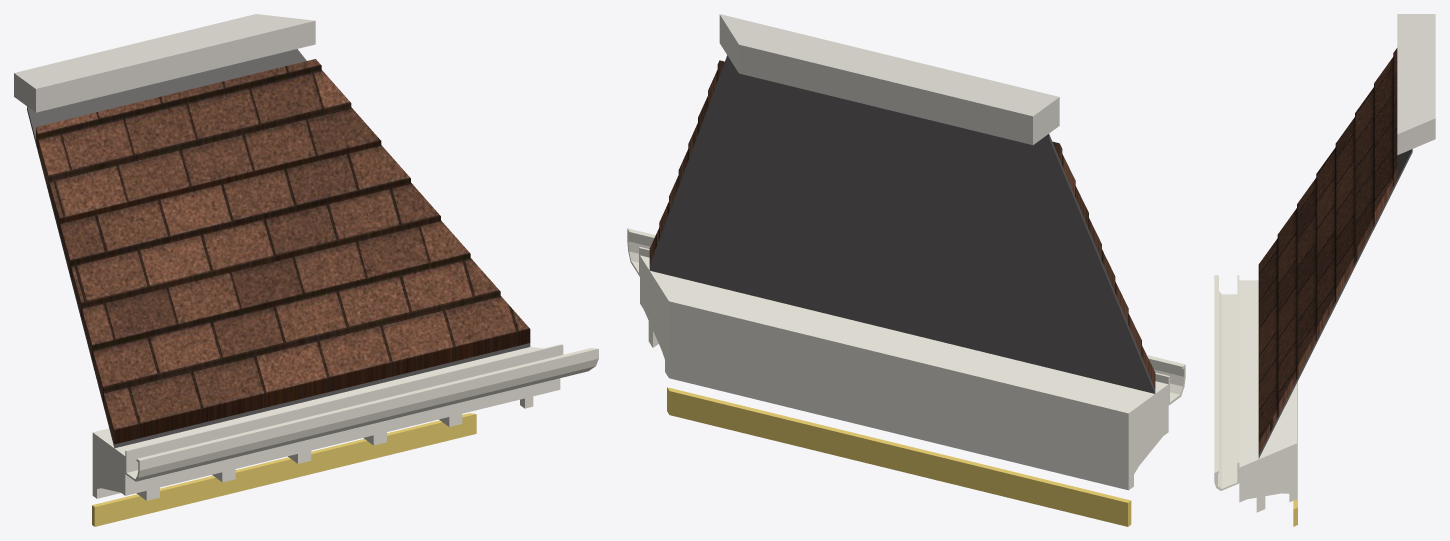
Rendered from mans_b.glb.
The picture shows the model from 3 angles, left to right: view 1: azimuth 30°, elevation 25°; view 2: azimuth 150°, elevation 25°; view 3: azimuth 270°, elevation 25°; orthographic projection. The views are drawn at different scales.
Parts seen in each view (by area): view 1: mans_b_shingles, mans_b_gutter, mans_b_cill, mans_b_trim, mans_b_accent, mans_b_dark; view 2: mans_b_dark, mans_b_trim, mans_b_cill, mans_b_accent, mans_b_shingles, mans_b_gutter; view 3: mans_b_shingles, mans_b_trim, mans_b_cill, mans_b_gutter, mans_b_dark.
Boxes of the visible parts, x1,y1,x2,y2 form: mans_b_shingles: [36, 59, 530, 444]; mans_b_gutter: [125, 344, 598, 481]; mans_b_cill: [14, 14, 315, 112]; mans_b_trim: [92, 347, 560, 500]; mans_b_accent: [92, 413, 476, 526]; mans_b_dark: [27, 49, 530, 448]; mans_b_dark: [649, 55, 1155, 393]; mans_b_trim: [640, 255, 1168, 490]; mans_b_cill: [719, 14, 1059, 144]; mans_b_accent: [667, 387, 1131, 526]; mans_b_shingles: [649, 60, 1155, 388]; mans_b_gutter: [627, 228, 1185, 405]; mans_b_shingles: [1258, 48, 1397, 454]; mans_b_trim: [1239, 280, 1296, 512]; mans_b_cill: [1397, 14, 1435, 155]; mans_b_gutter: [1214, 275, 1239, 490]; mans_b_dark: [1258, 149, 1412, 458].
Size of the model in its own units: 2.43 by 2 by 1.15.
6 materials, 1 textured.
